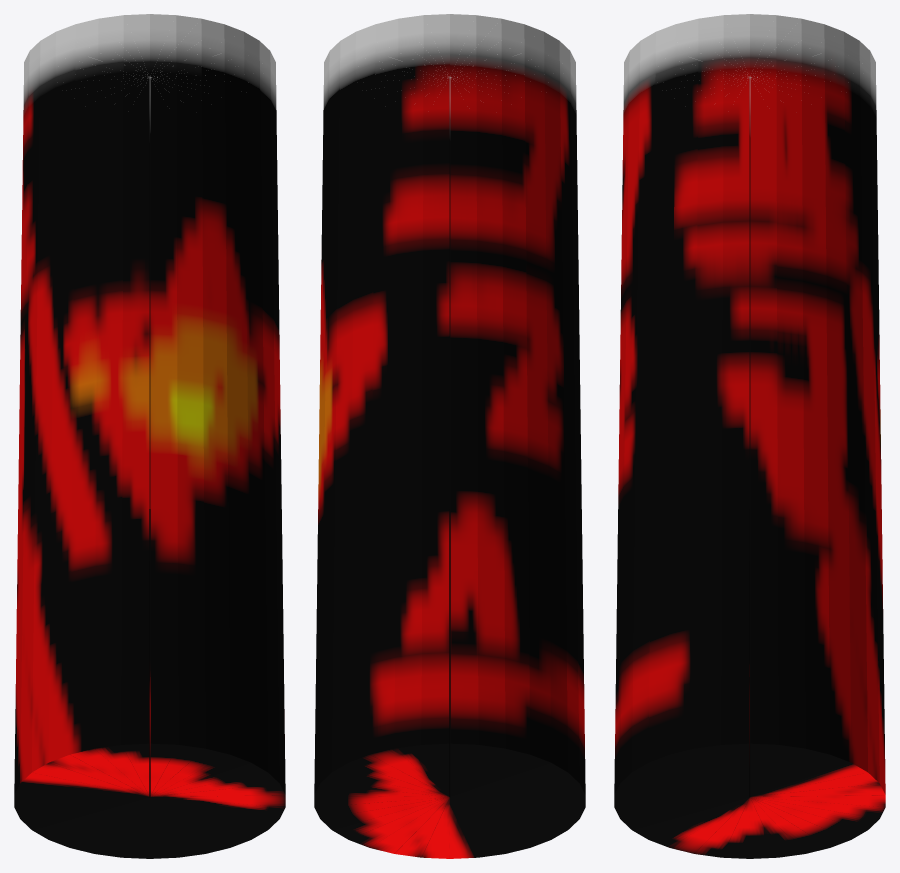
3 views of the same model, side by side, from view 1: azimuth 30°, elevation 25°; view 2: azimuth 150°, elevation 25°; view 3: azimuth 270°, elevation 25° (orthographic).
Parts seen in each view (by area): view 1: algeomath (1); view 2: algeomath (1); view 3: algeomath (1).
Part boxes in pixels (x1,y1,x2,y2): algeomath (1): (14, 14, 285, 858); algeomath (1): (314, 14, 585, 858); algeomath (1): (614, 14, 885, 858).
Bounding box in the file's own units: 0.1011 × 0.3 × 0.1005.
Materials: 1 (1 with a texture image).
